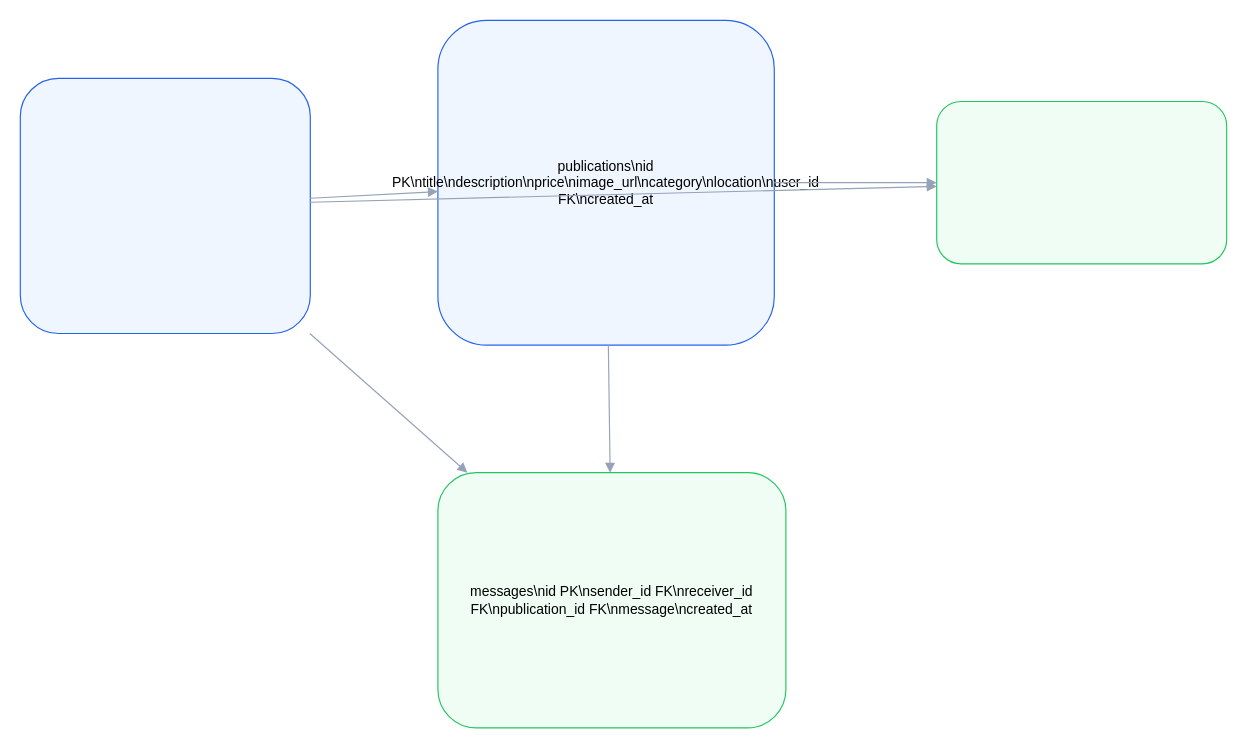
The diagram is 1247 pixels wide and 748 high, and some of its shapes have lost their labels. The centre of each missing label's shape, as x and y in pixels:
"favorites\nid PK\nuser_id FK\npublication_id FK" belongs at point 1081,182.
"users\nid PK\nname\nemail UNIQUE\npassword\navatar\ncreated_at" belongs at point 164,205.
